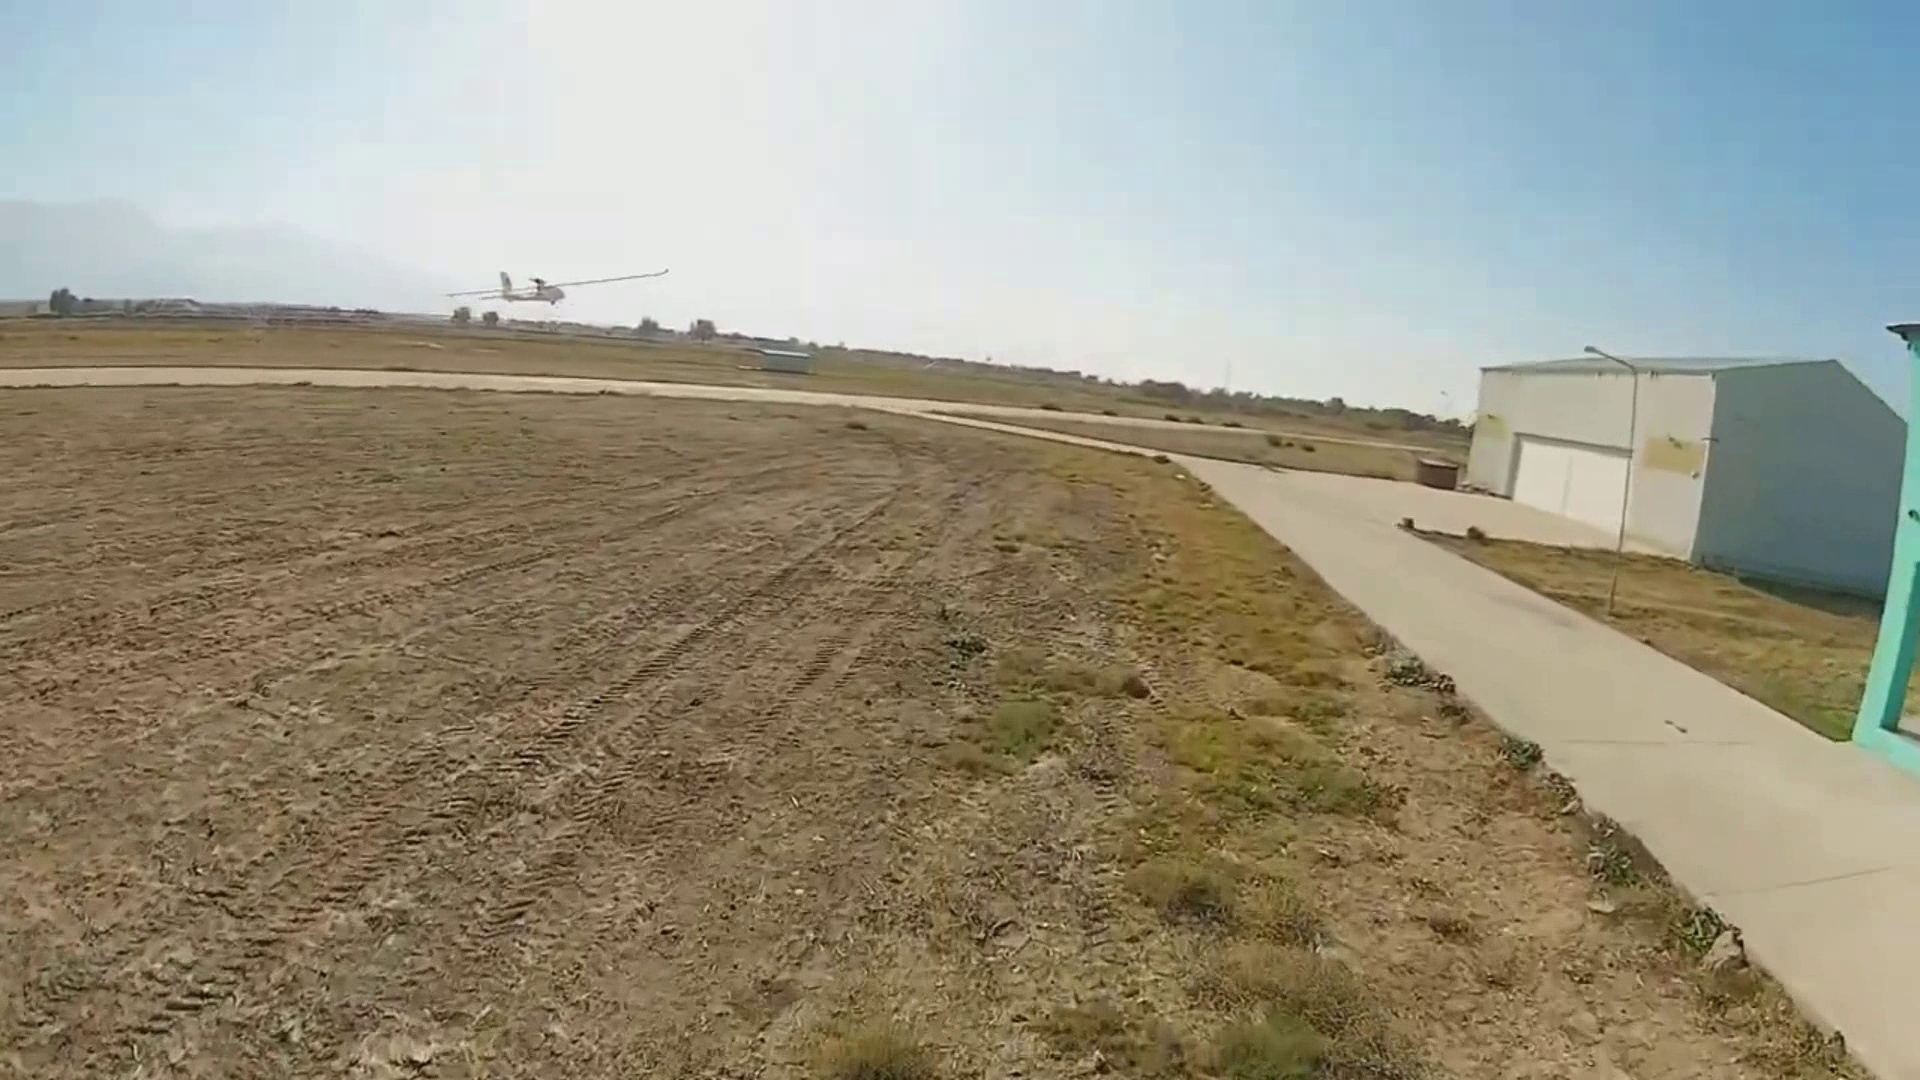airplane: (439, 258, 673, 322)
